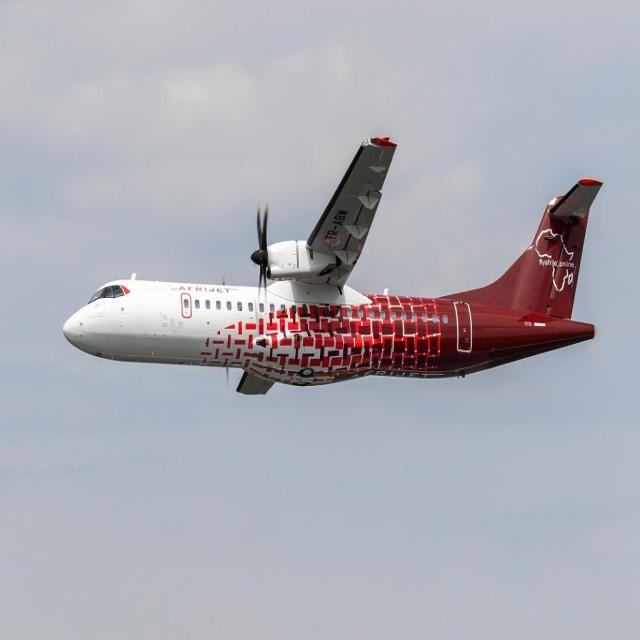jet: (16, 82, 617, 484)
